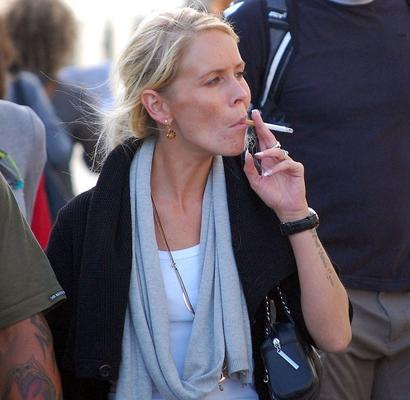person: (43, 7, 355, 400)
